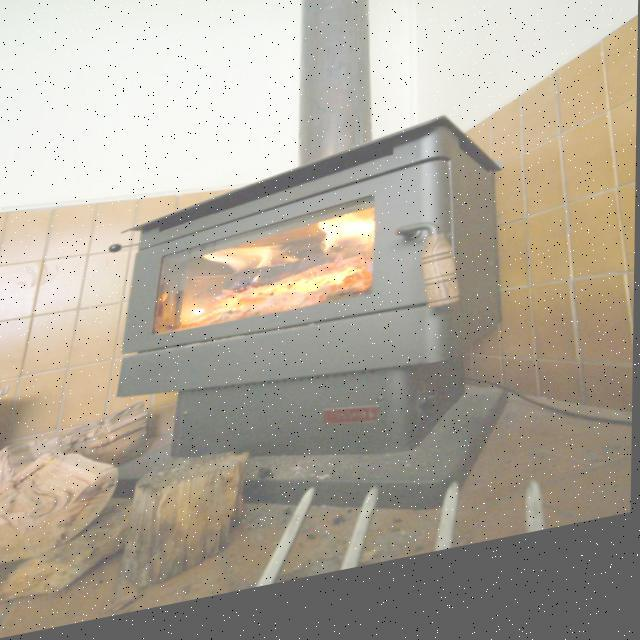Fire: (155, 220, 372, 342)
